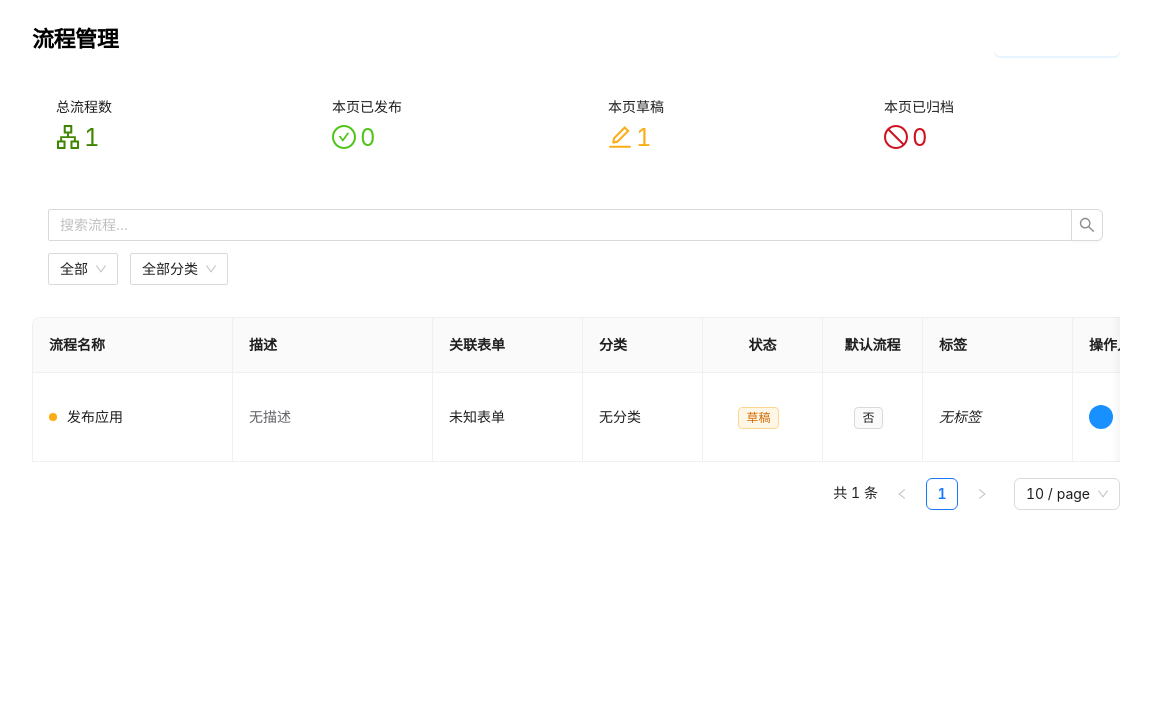
工单流程列表交互 › 查询失败清除旧记录并提供可操作的重试
Expected: the text "发布应用" is shown, top-left (67, 406), bottom-right (123, 428)
Click the 2nd button.
click(1087, 225)  # box top-left (1071, 209), bottom-right (1103, 241)
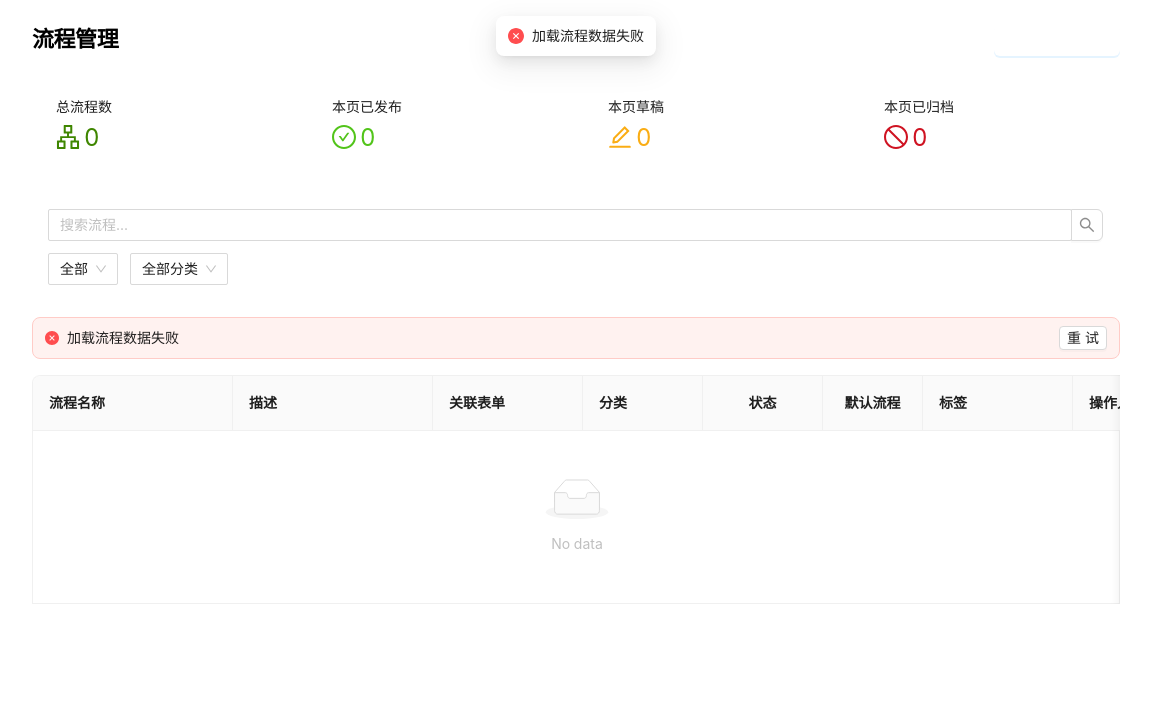
Expected: the message "加载流程数据失败 重 试" is shown, top-left (32, 317), bottom-right (1120, 359)
Click the button "重 试".
click(1083, 338)  # box top-left (1059, 326), bottom-right (1107, 350)
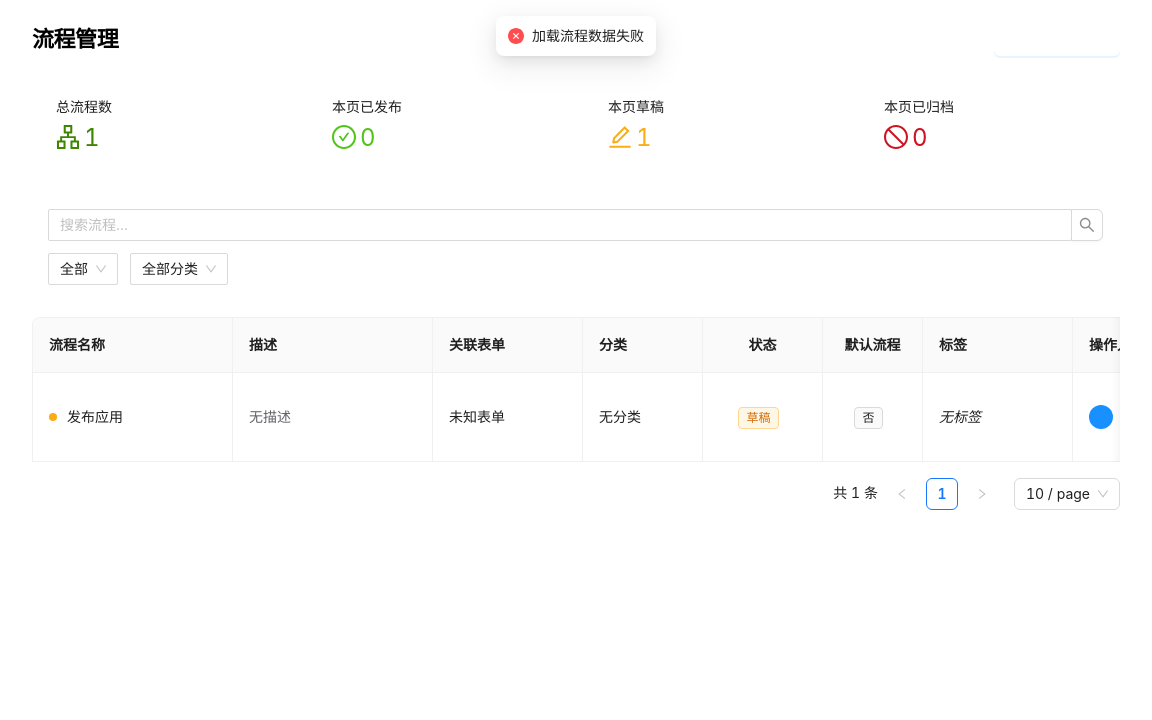
Expected: the text "发布应用" is shown, top-left (67, 406), bottom-right (123, 428)
